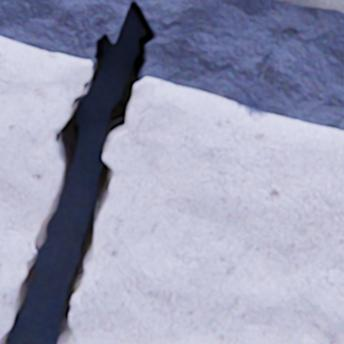brick: (275, 0, 343, 13)
broken_brick: (69, 77, 343, 343), (0, 36, 92, 339)
crack: (0, 0, 155, 343)
